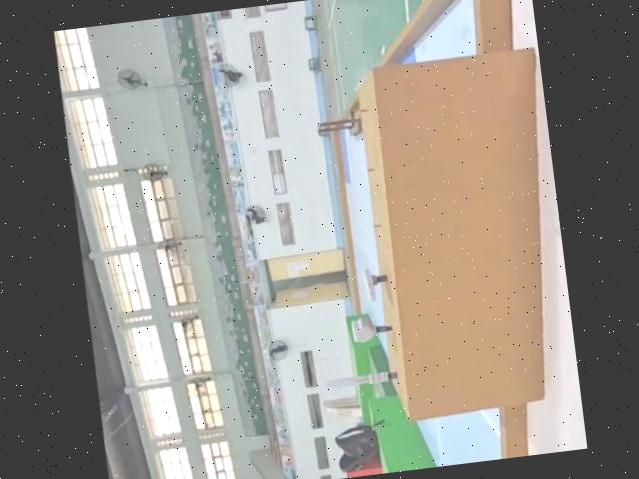Fist: (347, 312, 395, 345)
Hand: (358, 266, 389, 307)
Sph: (325, 364, 400, 392)
